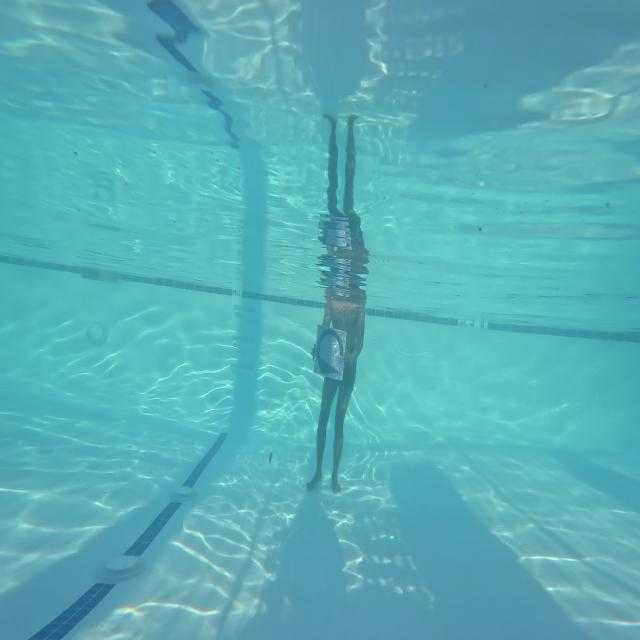blue_side: (313, 320, 347, 388)
